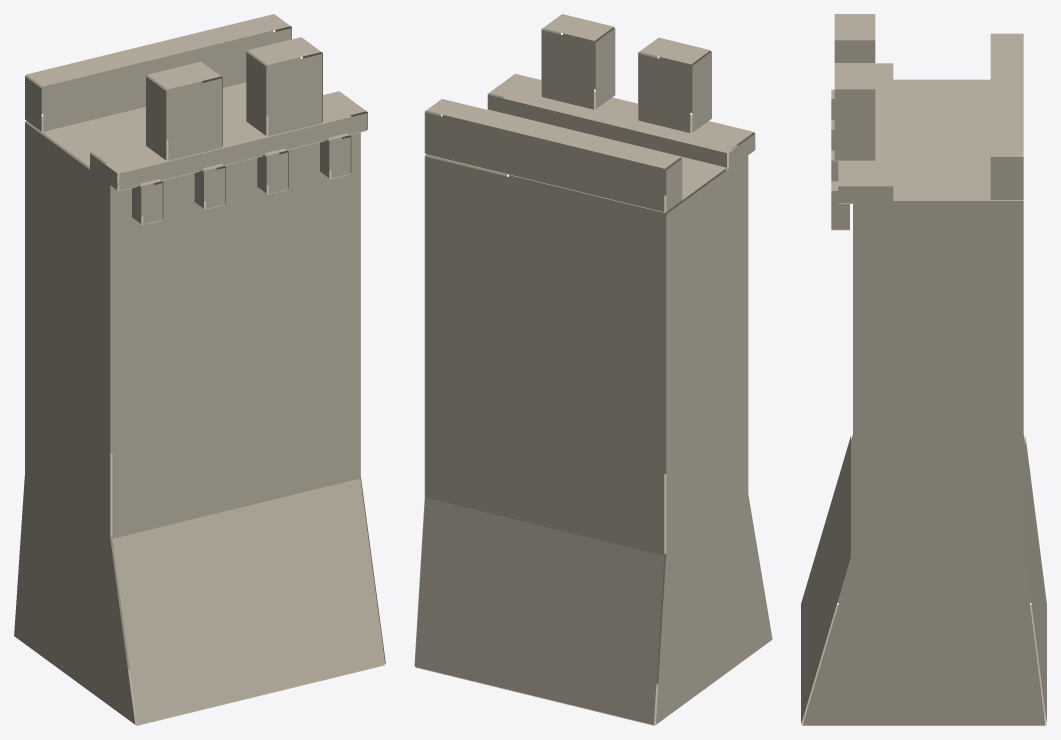
File: castle-wall-half-lod1.glb
The picture shows the model from 3 angles, left to right: view 1: azimuth 30°, elevation 25°; view 2: azimuth 150°, elevation 25°; view 3: azimuth 270°, elevation 25°; orthographic projection. The views are drawn at different scales.
Parts seen in each view (by area): view 1: castle-wall-half; view 2: castle-wall-half; view 3: castle-wall-half.
Boxes of the visible parts, box(x1,y1,x2,y2) form: castle-wall-half: box(14, 14, 385, 725); castle-wall-half: box(414, 14, 772, 725); castle-wall-half: box(801, 14, 1046, 725).
Bounding box in the file's own units: 4 × 9.35 × 3.39.
